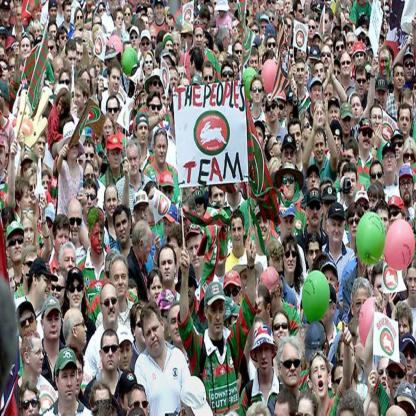face: (145, 313, 163, 357), (282, 345, 301, 386), (313, 357, 329, 399), (59, 367, 77, 402), (170, 305, 186, 343), (208, 300, 225, 335), (112, 261, 128, 298), (103, 335, 119, 371), (354, 287, 370, 322), (188, 236, 205, 268), (103, 288, 118, 324), (389, 364, 404, 399), (45, 308, 61, 340), (160, 249, 175, 283), (375, 274, 390, 308), (30, 338, 44, 374), (91, 219, 105, 255), (20, 310, 36, 339), (378, 357, 392, 390), (116, 212, 130, 245), (69, 210, 83, 243), (258, 345, 273, 375), (274, 315, 289, 345), (341, 341, 355, 373), (256, 210, 270, 242), (52, 272, 66, 304), (136, 312, 150, 343), (335, 367, 349, 398), (71, 360, 83, 396), (131, 391, 148, 416), (181, 279, 196, 307), (23, 390, 39, 416), (126, 145, 140, 174), (63, 248, 77, 277), (25, 254, 39, 283), (37, 275, 52, 302), (119, 339, 132, 370), (309, 198, 323, 226), (397, 316, 411, 344), (211, 186, 225, 214), (225, 284, 240, 310), (403, 346, 416, 376), (330, 218, 345, 244), (242, 269, 257, 295), (77, 311, 88, 346), (255, 297, 267, 329), (30, 173, 42, 205), (69, 280, 83, 307), (10, 235, 24, 262), (284, 244, 297, 273), (56, 227, 69, 256), (232, 218, 244, 249), (95, 389, 110, 413), (106, 187, 118, 217), (163, 310, 176, 337), (401, 175, 414, 202), (84, 188, 97, 215), (135, 204, 149, 229), (151, 276, 163, 304), (308, 242, 320, 270), (23, 219, 35, 247), (399, 108, 411, 135), (156, 136, 168, 163), (377, 209, 389, 235), (371, 165, 383, 191), (290, 125, 302, 151), (283, 147, 296, 171), (149, 189, 162, 213), (345, 173, 357, 198), (83, 145, 95, 170), (349, 214, 362, 237), (372, 108, 383, 134), (324, 271, 337, 293), (282, 214, 295, 236), (270, 258, 283, 280), (108, 99, 119, 125), (315, 134, 325, 162), (144, 231, 153, 262), (283, 174, 295, 197), (267, 100, 279, 123), (35, 136, 47, 159), (110, 68, 121, 93), (21, 187, 32, 212), (390, 207, 403, 228), (360, 128, 373, 149), (299, 399, 315, 416), (324, 200, 338, 219), (329, 104, 341, 126), (137, 122, 149, 144), (380, 50, 390, 76), (80, 71, 91, 94), (384, 151, 396, 172), (110, 148, 122, 169), (149, 97, 161, 118), (42, 217, 54, 238), (393, 138, 404, 160), (103, 119, 114, 141), (357, 200, 369, 220), (395, 66, 405, 90), (357, 71, 367, 95), (345, 150, 357, 170), (85, 164, 95, 188), (68, 51, 78, 75), (67, 138, 79, 158), (8, 268, 16, 298), (398, 402, 415, 416), (342, 114, 353, 135), (309, 172, 320, 193), (352, 96, 362, 119), (253, 81, 263, 104), (161, 187, 173, 206), (405, 149, 416, 169), (303, 117, 313, 139), (408, 267, 416, 294), (342, 55, 352, 76), (249, 55, 259, 76), (204, 68, 214, 89), (61, 72, 71, 93), (21, 38, 31, 59), (23, 161, 33, 182), (277, 99, 286, 122), (170, 69, 179, 92), (405, 59, 415, 79), (322, 47, 332, 67), (312, 84, 322, 104), (332, 134, 342, 154), (76, 43, 84, 68), (55, 61, 65, 81), (369, 193, 380, 211), (164, 219, 175, 237), (152, 80, 163, 98), (76, 88, 85, 110), (324, 86, 334, 105), (288, 101, 298, 120), (255, 127, 264, 148), (195, 28, 204, 49), (377, 91, 387, 109), (336, 41, 346, 59), (315, 63, 325, 81), (272, 136, 282, 154), (298, 45, 307, 65), (268, 37, 277, 57), (223, 67, 235, 82), (142, 37, 151, 57), (315, 109, 325, 127), (297, 62, 305, 84), (90, 68, 98, 90), (235, 43, 243, 64), (172, 35, 180, 56), (137, 71, 145, 92), (9, 59, 17, 80), (1, 61, 9, 82), (42, 175, 51, 193), (404, 98, 414, 114), (194, 200, 204, 216), (146, 55, 154, 75), (16, 7, 24, 27), (95, 30, 104, 47), (232, 62, 240, 81), (333, 64, 341, 82), (162, 93, 171, 109), (58, 98, 66, 116), (150, 29, 157, 49), (323, 15, 331, 32), (311, 59, 319, 76), (232, 20, 240, 37), (131, 32, 139, 49), (61, 33, 69, 50), (251, 25, 260, 40), (182, 33, 191, 48), (297, 4, 304, 23), (77, 10, 84, 29), (355, 52, 365, 65), (107, 56, 117, 69), (156, 4, 164, 20), (50, 26, 58, 42), (348, 36, 355, 54), (309, 21, 316, 39), (286, 18, 293, 36), (189, 57, 195, 78), (165, 40, 174, 54), (181, 79, 190, 93), (168, 18, 175, 36), (65, 5, 72, 23), (261, 20, 269, 35), (226, 30, 232, 50), (93, 160, 99, 180), (200, 18, 208, 33), (47, 41, 55, 56), (50, 7, 58, 22), (366, 74, 373, 91), (164, 57, 173, 70), (285, 1, 293, 15), (117, 13, 124, 29), (125, 9, 132, 25), (98, 157, 104, 175), (214, 45, 221, 60), (203, 37, 210, 52), (142, 16, 149, 31), (34, 26, 41, 41), (314, 38, 322, 51), (99, 5, 106, 19), (3, 7, 10, 21), (219, 55, 225, 71), (147, 8, 153, 24), (75, 34, 83, 46), (34, 9, 41, 22), (207, 7, 214, 20), (329, 40, 335, 55), (304, 65, 309, 83), (219, 7, 227, 18), (82, 36, 89, 48), (87, 46, 93, 60), (268, 1, 276, 11), (213, 1, 221, 11), (378, 38, 384, 51), (385, 6, 391, 19), (367, 53, 373, 66), (269, 12, 275, 25), (358, 33, 365, 44), (13, 45, 20, 56), (334, 16, 339, 31), (279, 6, 285, 18), (95, 62, 101, 74), (230, 1, 237, 11), (96, 17, 101, 30), (345, 13, 350, 25), (186, 12, 192, 22), (110, 1, 118, 8), (313, 7, 318, 18), (275, 4, 280, 15), (14, 1, 23, 7), (362, 25, 368, 33), (346, 28, 352, 36), (145, 1, 151, 9), (316, 21, 320, 31), (254, 3, 257, 10)
